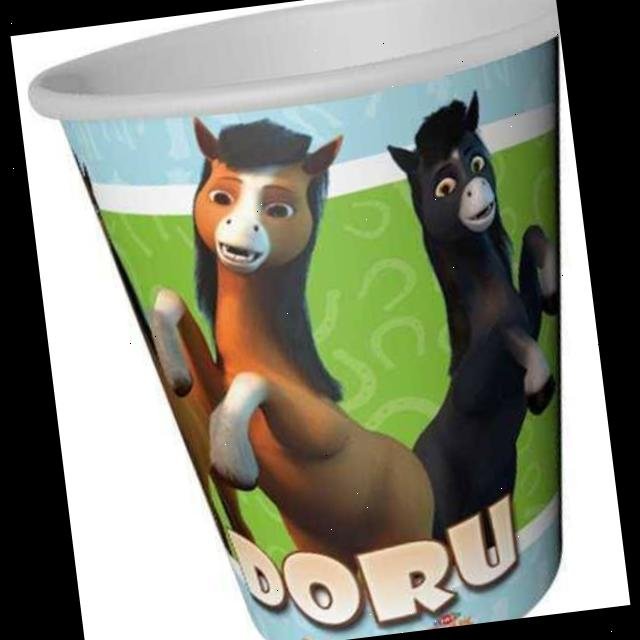trash: (20, 0, 630, 640)
